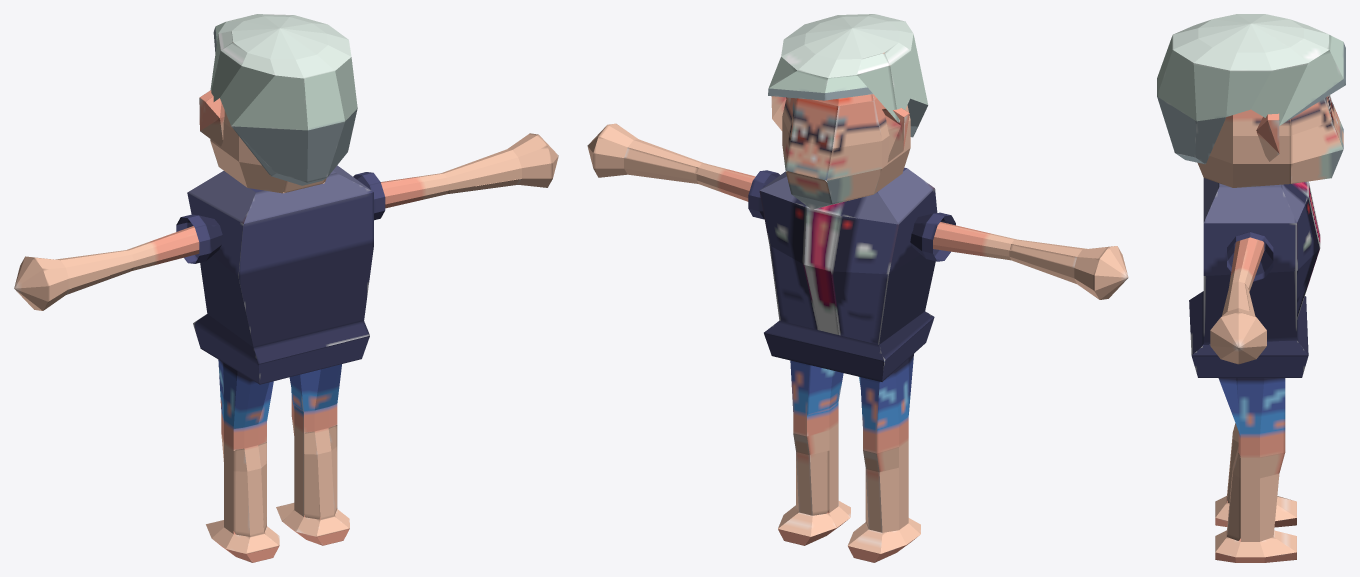
File: player.fbx
3 views of the same model, side by side, from view 1: azimuth 30°, elevation 25°; view 2: azimuth 150°, elevation 25°; view 3: azimuth 270°, elevation 25° (orthographic).
Visible parts, largest first — view 1: Body, Hair, Leg, Leg_1, Arm, Arm_1, Skull, Ear1; view 2: Body, Hair, Skull, Leg, Leg_1, Arm, Arm_1, Ear1; view 3: Hair, Body, Leg_1, Skull, Arm_1, Leg, Ear1_1.
Part boxes in pixels (box(x1,y1,x2,y2)): Body: box(187, 165, 373, 384); Hair: box(210, 14, 357, 185); Leg: box(206, 359, 279, 562); Leg_1: box(276, 364, 349, 545); Arm: box(14, 214, 222, 310); Arm_1: box(353, 133, 558, 220); Skull: box(210, 42, 326, 193); Ear1: box(199, 90, 224, 146); Body: box(759, 167, 937, 381); Hair: box(768, 14, 928, 137); Skull: box(782, 52, 910, 209); Leg: box(847, 354, 920, 562); Leg_1: box(778, 360, 850, 545); Arm: box(910, 212, 1128, 299); Arm_1: box(587, 123, 779, 219); Ear1: box(882, 107, 909, 162); Hair: box(1157, 14, 1345, 164); Body: box(1189, 178, 1320, 377); Leg_1: box(1215, 378, 1296, 562); Skull: box(1197, 95, 1343, 187); Arm_1: box(1210, 231, 1273, 364); Leg: box(1215, 423, 1296, 527); Ear1_1: box(1256, 113, 1279, 161).
Bounding box in the file's own units: 84.79 × 75.94 × 25.32.
Materials: 1 (1 with a texture image).
